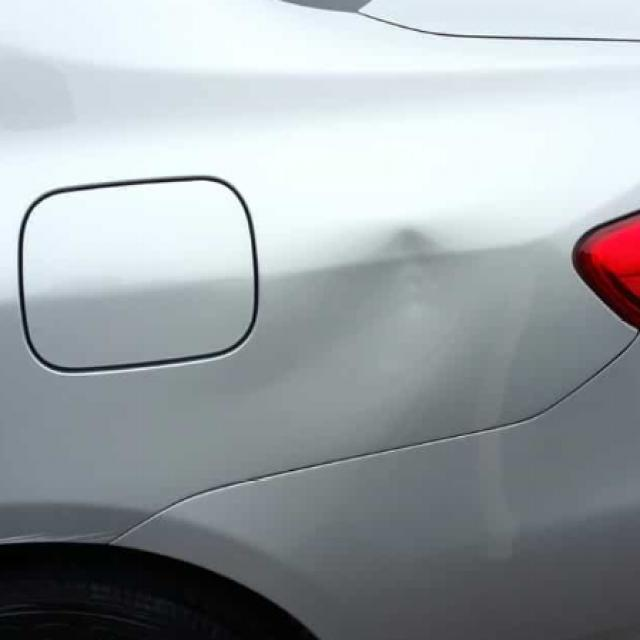dents: (371, 212, 455, 324)
